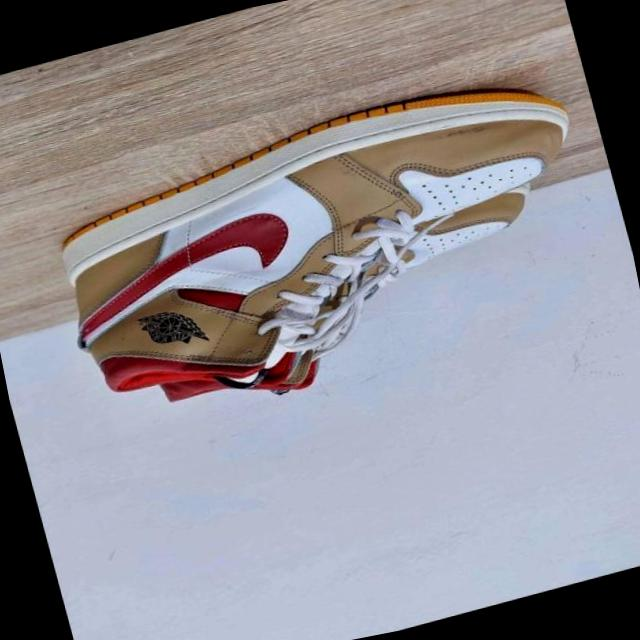nike_fake_jordan: (35, 50, 626, 422), (130, 182, 576, 426)
